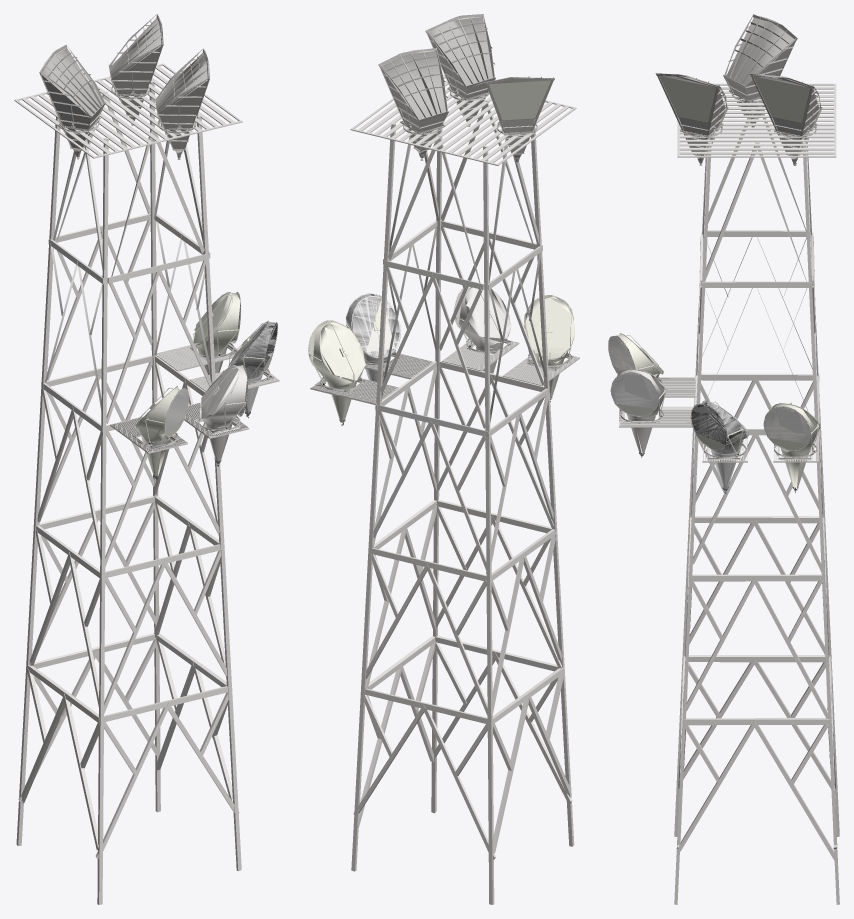
Rendered from mast.glb.
3 renders of one model, left to right at view 1: azimuth 30°, elevation 25°; view 2: azimuth 150°, elevation 25°; view 3: azimuth 270°, elevation 25°, orthographic.
Parts seen in each view (by area): view 1: Object_5, Object_77; view 2: Object_5, Object_77; view 3: Object_5, Object_77.
Boxes of the visible parts, left/top/right/bottom form: Object_5: left=14, top=14, right=279, bottom=904; Object_77: left=149, top=302, right=277, bottom=444; Object_5: left=308, top=14, right=579, bottom=904; Object_77: left=323, top=293, right=570, bottom=384; Object_5: left=608, top=14, right=839, bottom=904; Object_77: left=608, top=336, right=814, bottom=489.
Size of the model in its own units: 3.63 by 12.56 by 3.23.
2 materials, 2 textured.
